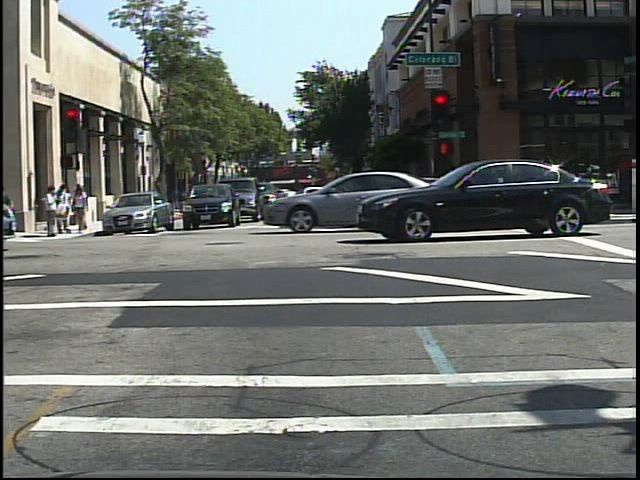person: (150, 181, 169, 218)
